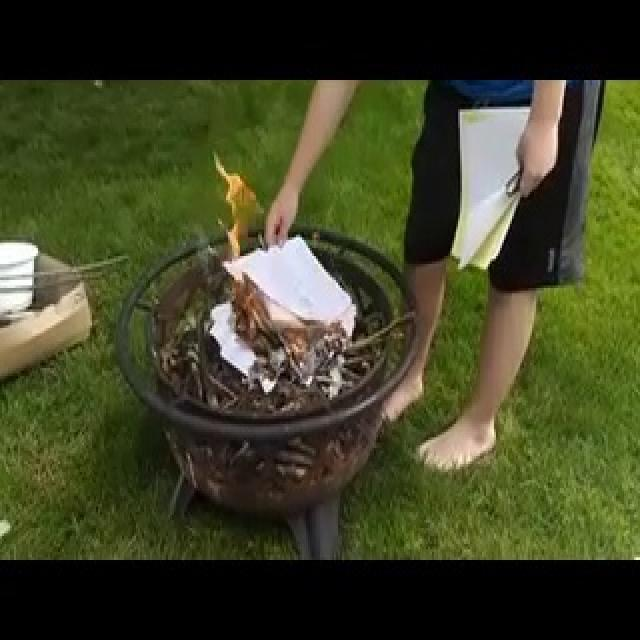fire: (213, 152, 281, 350)
